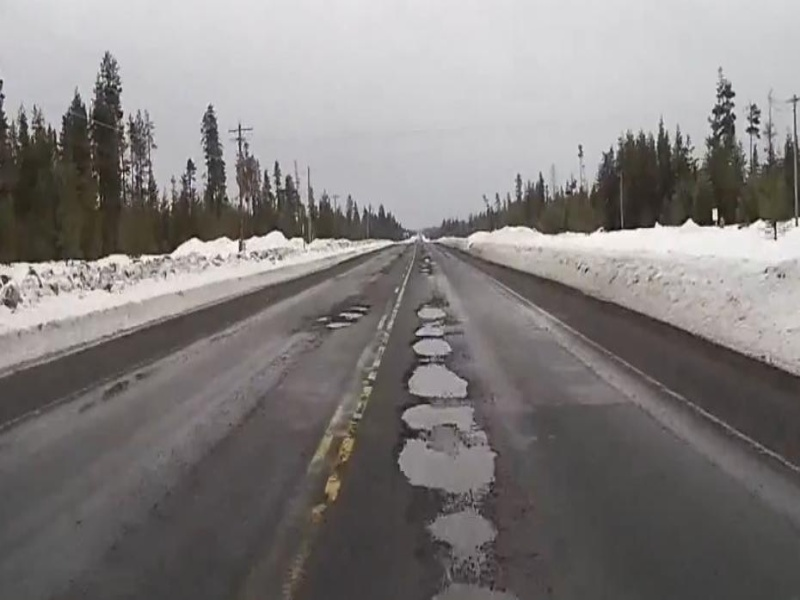pothole: (393, 432, 500, 492), (423, 505, 500, 570), (396, 399, 483, 432), (404, 360, 470, 400), (406, 337, 456, 360), (414, 303, 450, 321), (410, 322, 448, 337), (334, 309, 364, 320), (322, 319, 350, 330)
